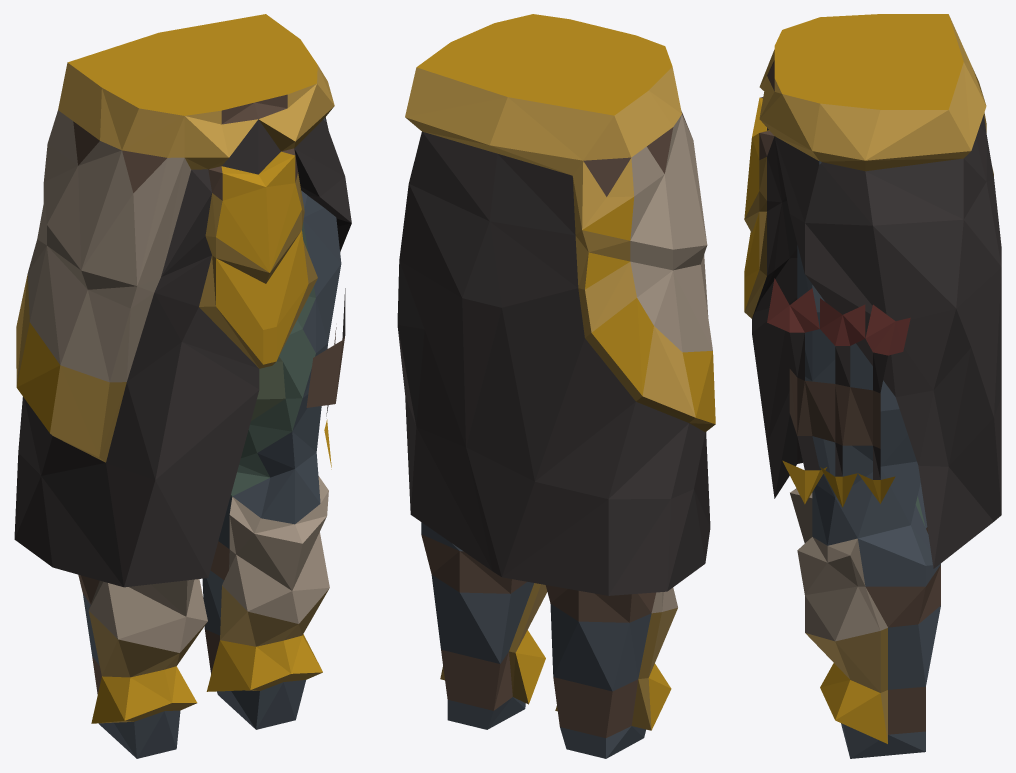
File: player_masori_chaps__f_.glb
3 renders of one model, left to right at view 1: azimuth 30°, elevation 25°; view 2: azimuth 150°, elevation 25°; view 3: azimuth 270°, elevation 25°, orthographic.
Bounding box in the file's own units: 46.99 × 96.01 × 33.99.
Materials: 1 (1 with a texture image).
